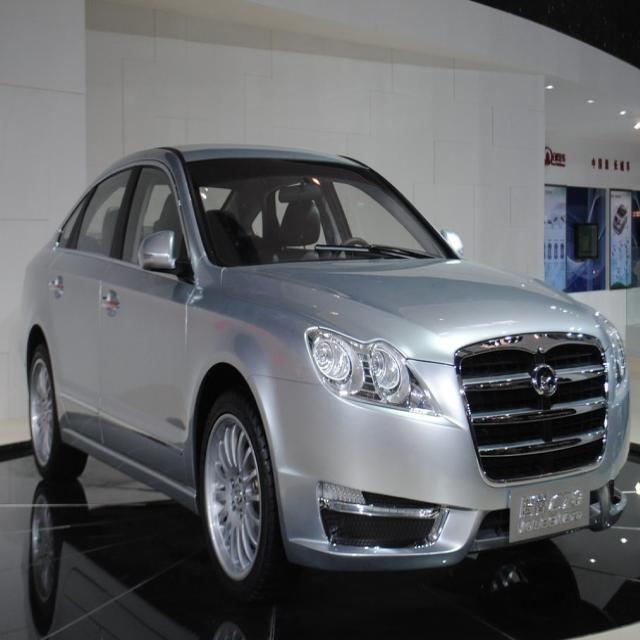door: (55, 162, 138, 439)
front_bumper: (247, 369, 633, 572)
front_glass: (182, 155, 458, 266)
front_right_side_door: (96, 152, 195, 503)
front_right_side_light: (305, 324, 440, 419)
front_right_side_mirror: (138, 229, 180, 277)
wheel: (201, 391, 283, 595), (28, 344, 76, 478)
